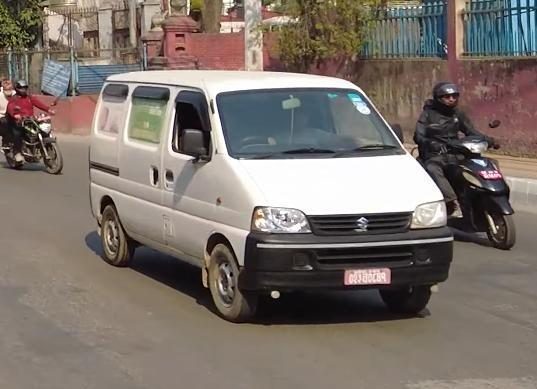bike: (0, 104, 68, 178)
scooter: (423, 125, 520, 251)
van: (84, 63, 455, 324)
